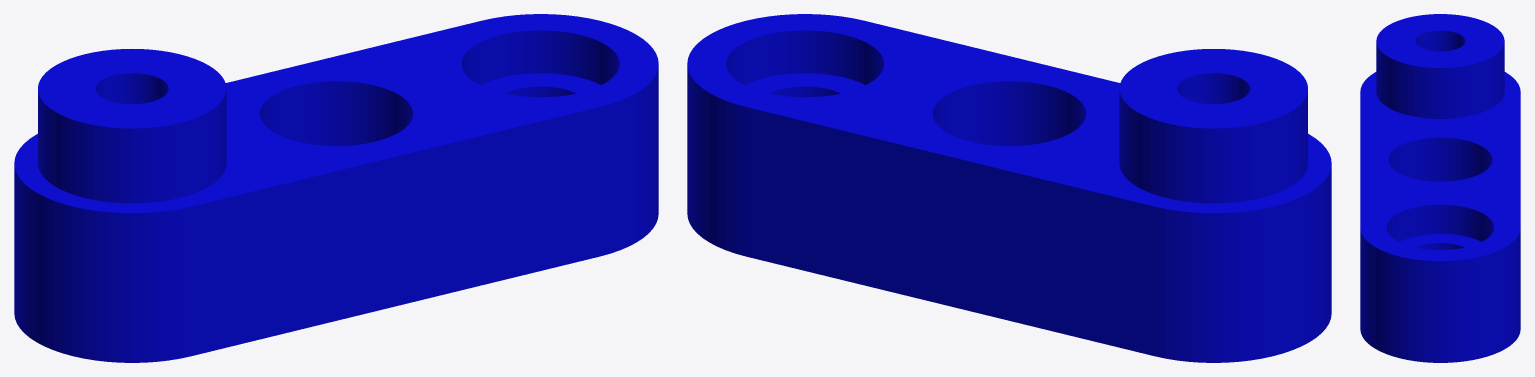
File: axe-drive_PCBWay Community.002.dae
The picture shows the model from 3 angles, left to right: view 1: azimuth 30°, elevation 25°; view 2: azimuth 150°, elevation 25°; view 3: azimuth 270°, elevation 25°; orthographic projection. The views are drawn at different scales.
Visible parts, largest first — view 1: tmp_export_axe-drive_PCBWay Community.002; view 2: tmp_export_axe-drive_PCBWay Community.002; view 3: tmp_export_axe-drive_PCBWay Community.002.
Boxes of the visible parts, x1=… form: tmp_export_axe-drive_PCBWay Community.002: x1=14, y1=14, x2=658, y2=362; tmp_export_axe-drive_PCBWay Community.002: x1=687, y1=14, x2=1331, y2=362; tmp_export_axe-drive_PCBWay Community.002: x1=1360, y1=14, x2=1520, y2=362.
Size of the model in its own units: 0.03 by 0.01 by 0.0105.
